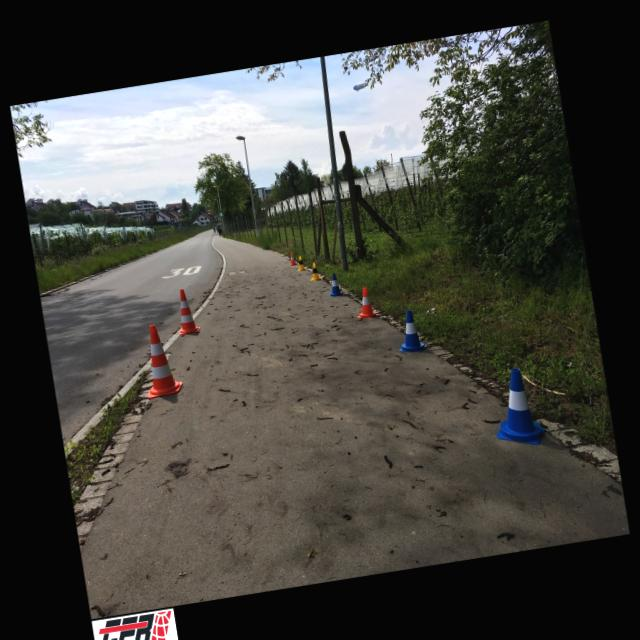blue_cone: (486, 366, 546, 451), (393, 308, 428, 354), (326, 272, 344, 298)
large_orange_cone: (137, 322, 184, 399), (173, 288, 200, 335)
orange_cone: (353, 286, 379, 320), (288, 252, 297, 266)
yellow_cone: (308, 262, 322, 282), (296, 256, 306, 272)
